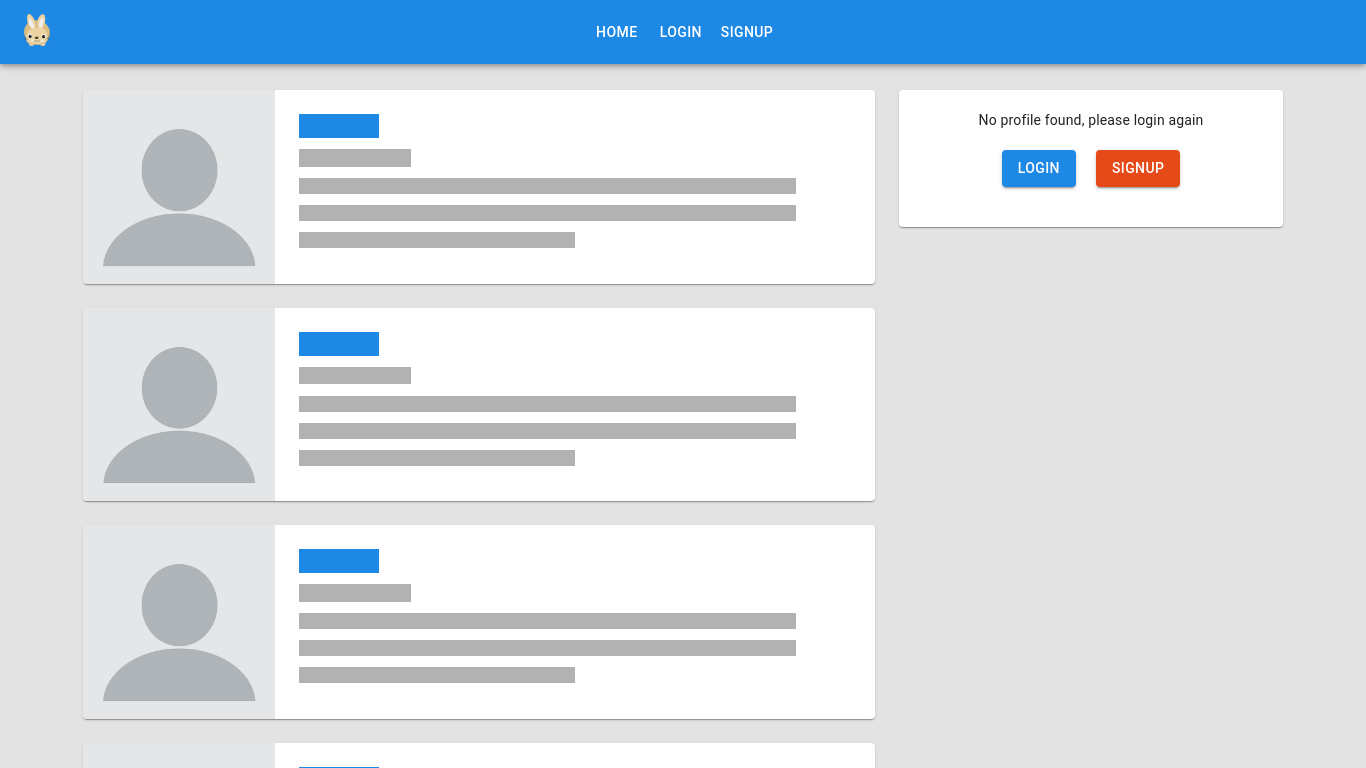
App › on login success, change to home's route and page
Click the 1st button "Login". click: [681, 32]
box: top-left (660, 24), bottom-right (702, 40)
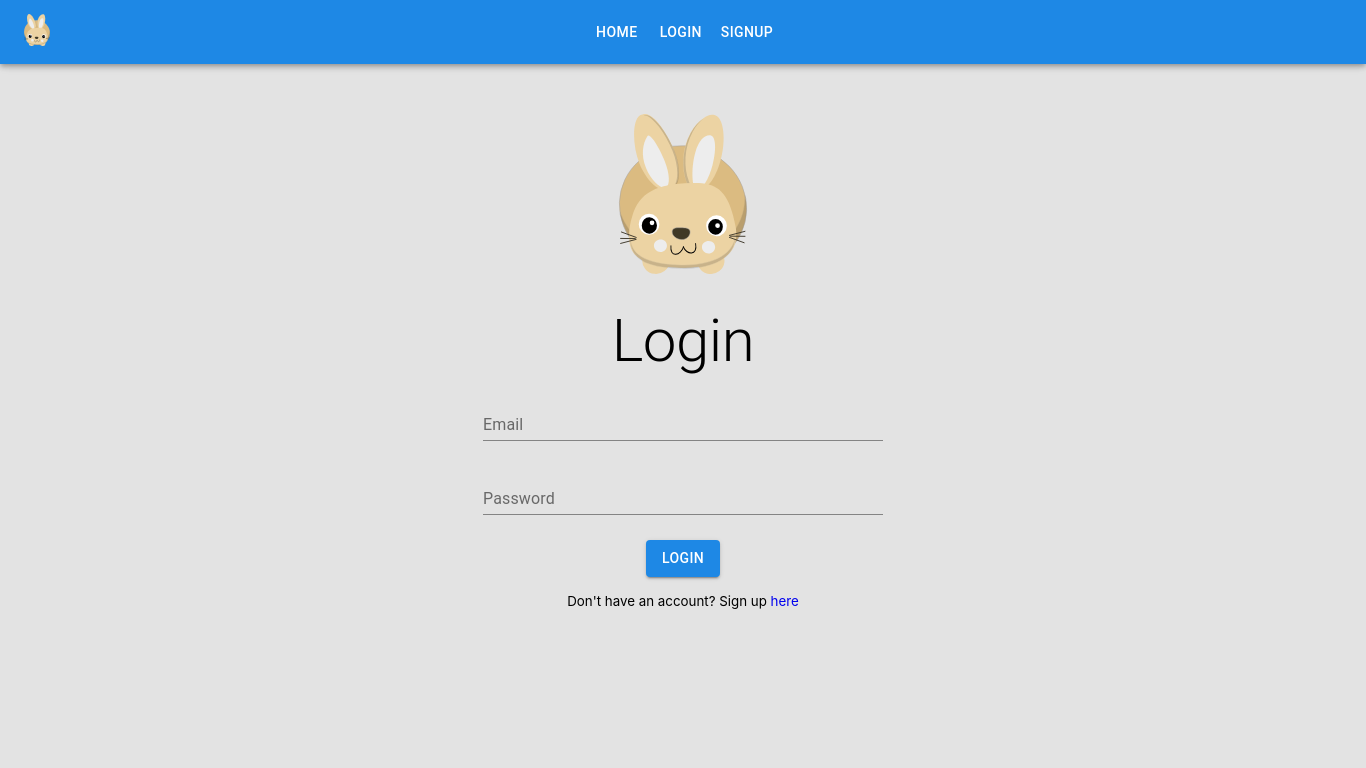
Type "chiquillo@kun.com" into the field labelled "Email". click: [683, 425]
box: top-left (483, 409), bottom-right (883, 441)
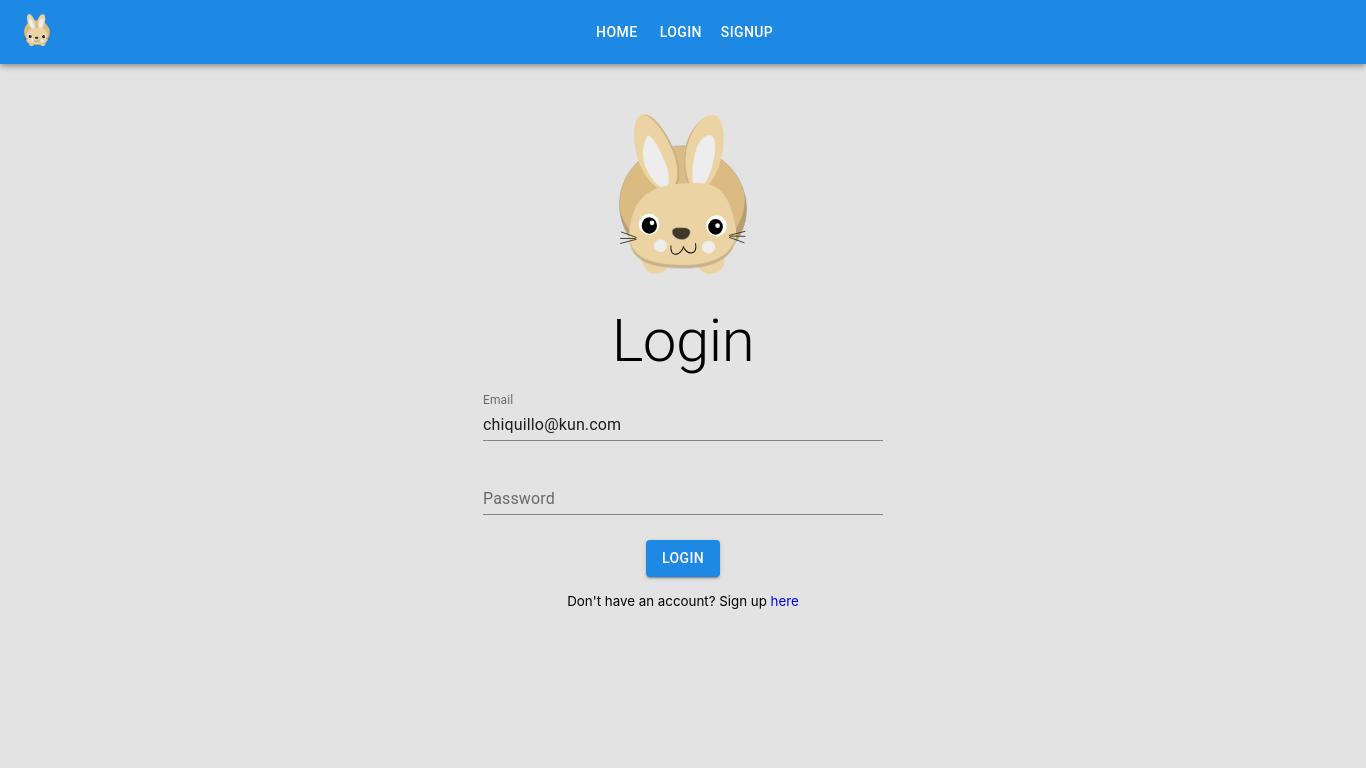
Type "123456" into the password field labelled "Password". click: [683, 499]
box: top-left (483, 483), bottom-right (883, 515)
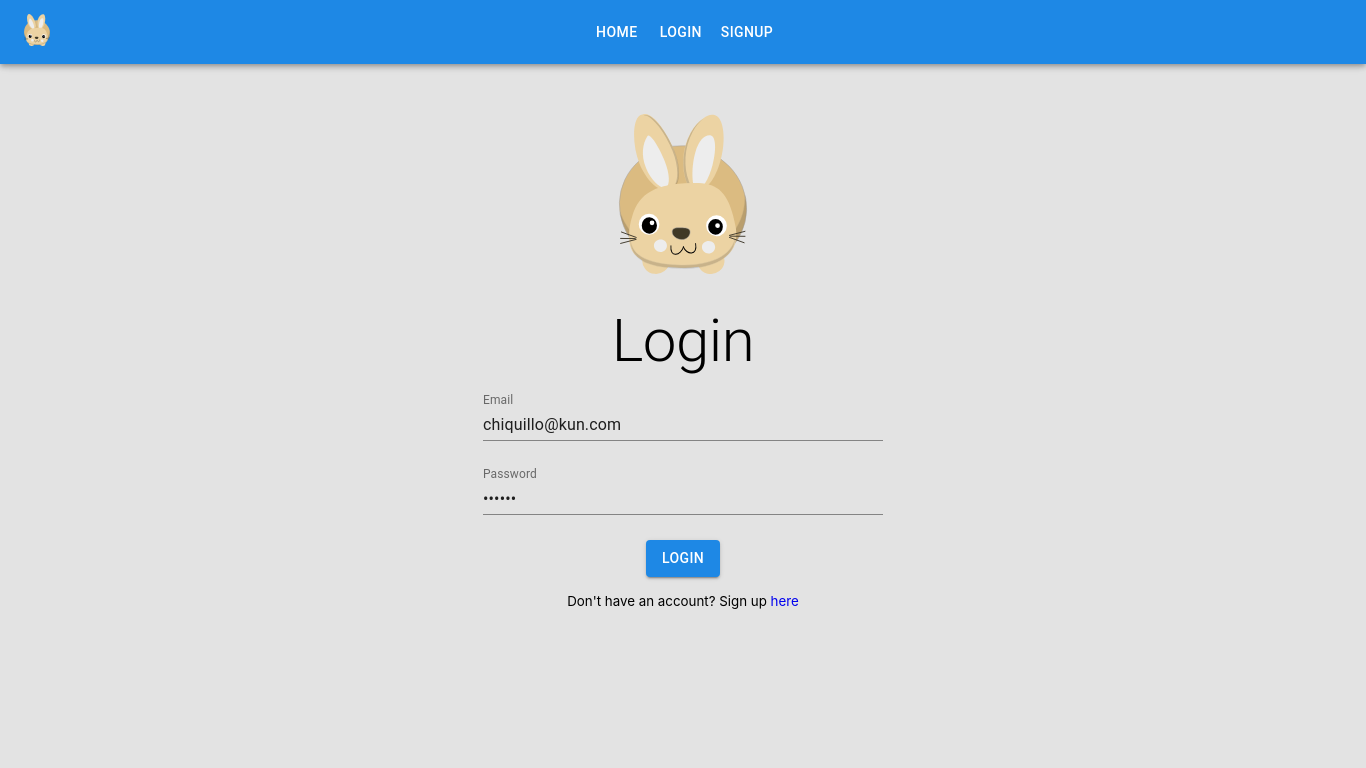
Click the button "Login" below "Password". click: [683, 559]
box: top-left (646, 540), bottom-right (720, 577)
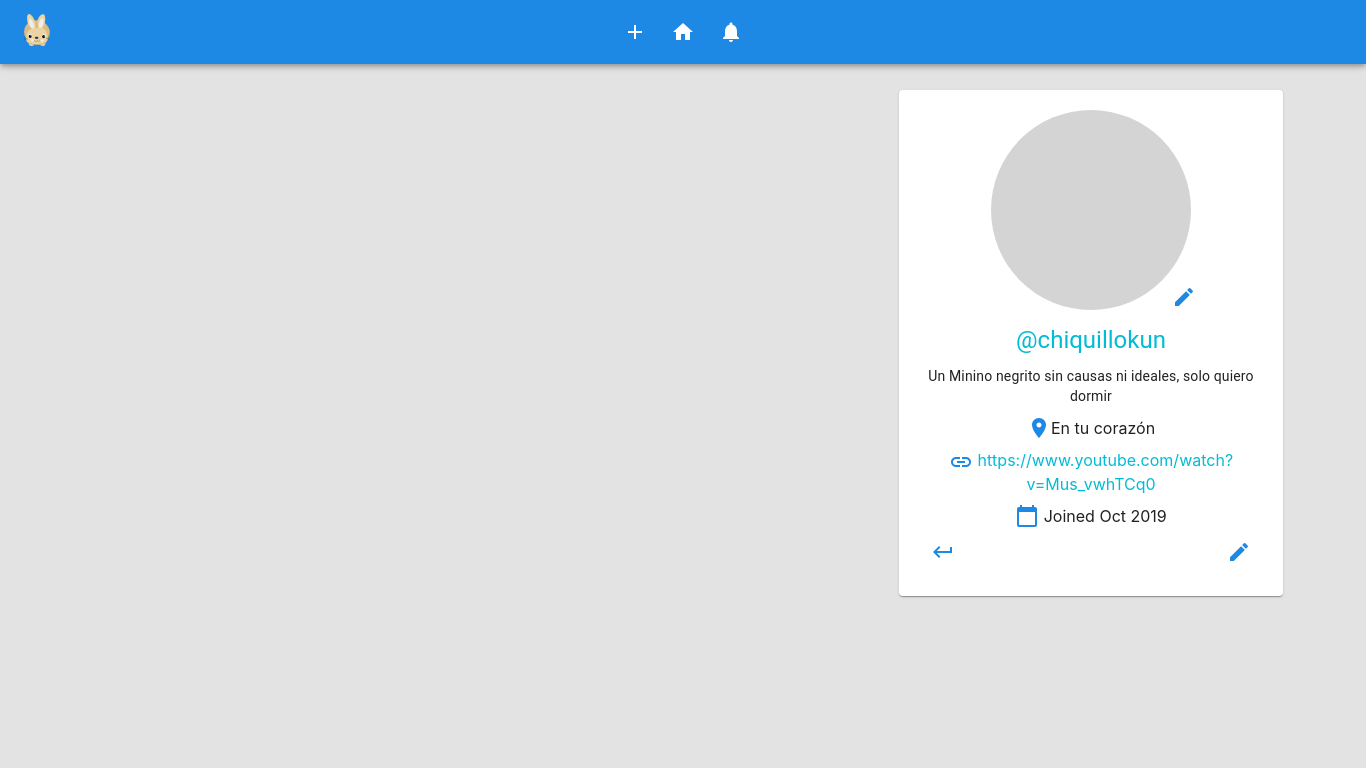
Expected: the text "En tu corazón" is shown, top-left (1051, 418), bottom-right (1155, 438)
